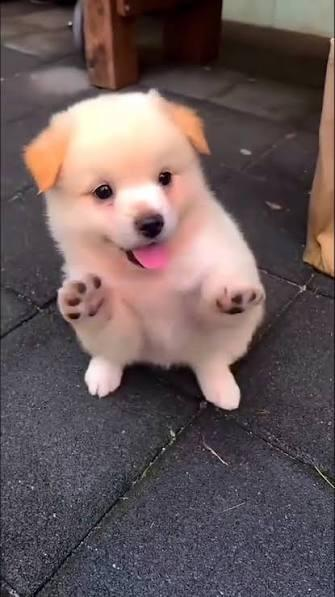puppy-dog: (21, 91, 267, 410)
